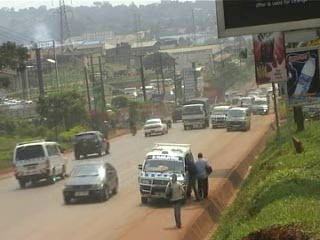Car: (58, 160, 121, 205), (68, 129, 115, 158), (139, 117, 170, 138), (170, 105, 184, 123)
Motorcycle: (129, 124, 138, 138)
